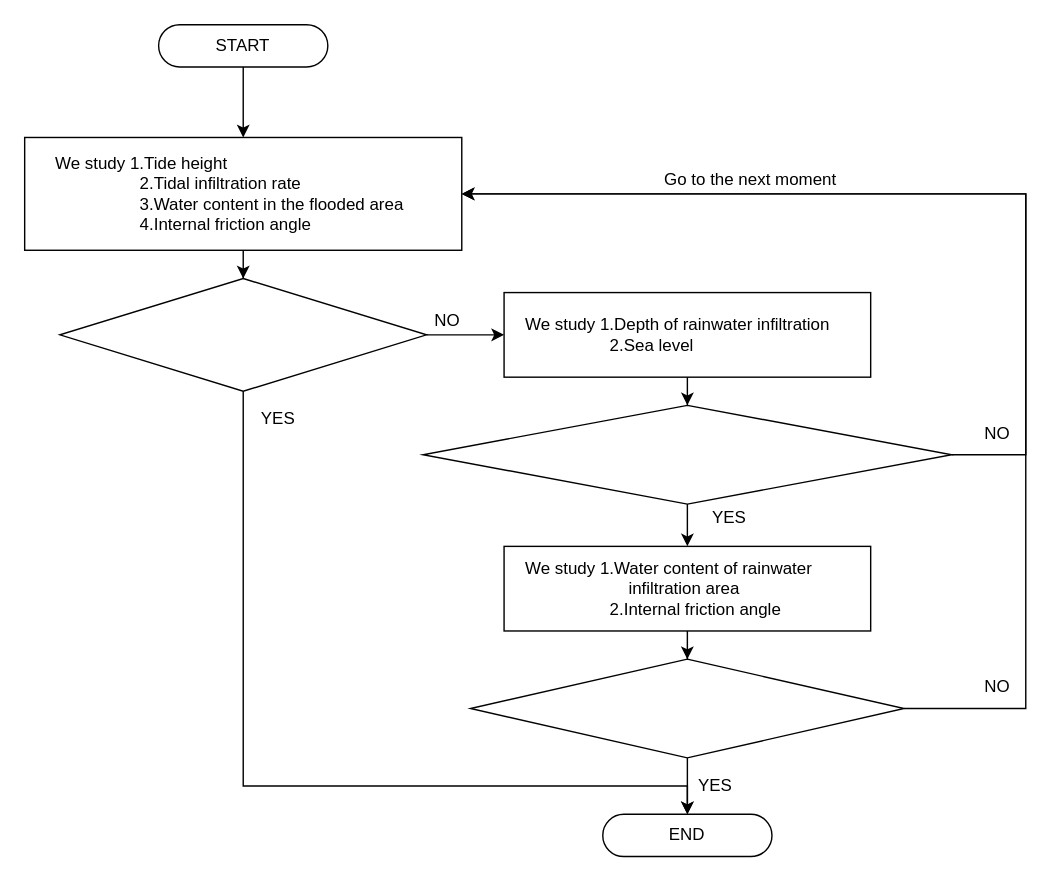
Some shapes in this 1062 by 881 pixel diagram are drawn without their labels. The shapes that lost their labels are listed below. From the top down, each one's centre as x and y in pixels, then its label:
At (x=243, y=334): "Whether the sandcastle collapses".
At (x=687, y=454): "Whether wave touch rain infiltration place".
At (x=686, y=708): "Whether the sandcastle collapse".
